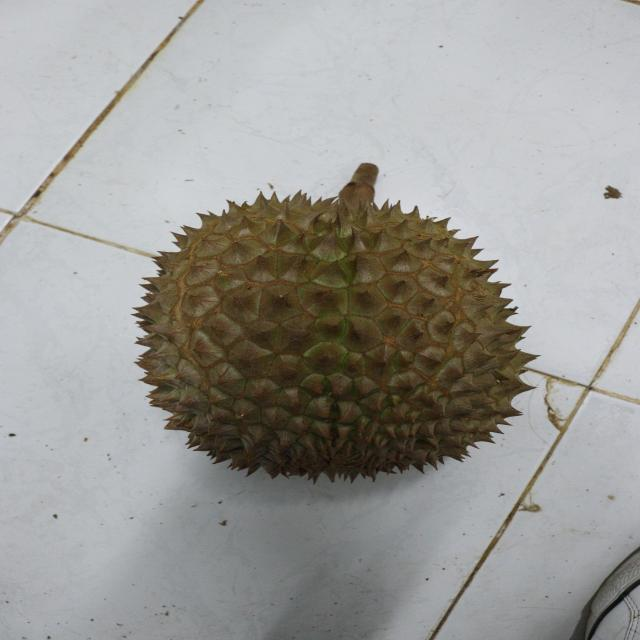mature: (139, 189, 544, 490)
